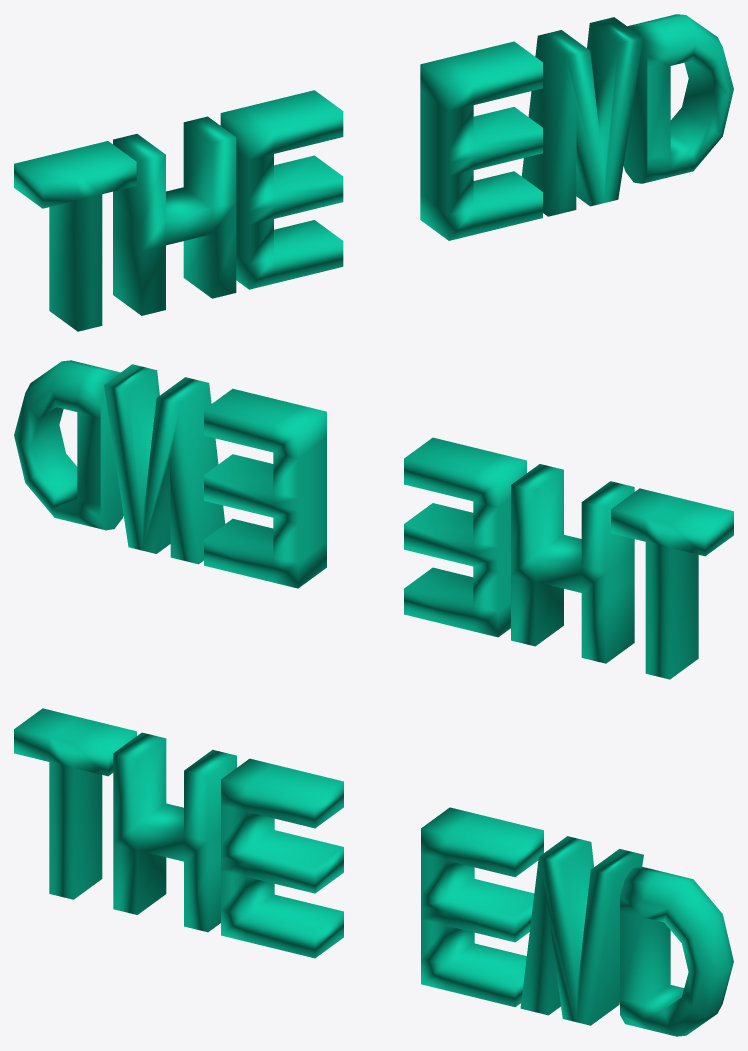
File: The_End.fbx
3 renders of one model, top to bottom at view 1: azimuth 30°, elevation 25°; view 2: azimuth 150°, elevation 25°; view 3: azimuth 330°, elevation 25°, orthographic.
Parts seen in each view (by area): view 1: pCube26, pCube7, pCube3, pCube17, pTorus2, pCube8; view 2: pCube26, pCube7, pCube3, pCube17, pTorus2, pCube8; view 3: pCube3, pCube26, pCube7, pCube17, pTorus2, pCube8.
Part boxes in pixels (x1,y1,x2,y2): pCube26: [420, 41, 542, 240]; pCube7: [113, 116, 236, 315]; pCube3: [220, 90, 343, 289]; pCube17: [521, 17, 643, 216]; pTorus2: [623, 14, 733, 183]; pCube8: [14, 141, 136, 331]; pCube26: [204, 388, 326, 588]; pCube7: [511, 464, 634, 663]; pCube3: [404, 437, 526, 637]; pCube17: [104, 364, 225, 564]; pTorus2: [14, 360, 123, 530]; pCube8: [611, 488, 733, 679]; pCube3: [221, 758, 343, 958]; pCube26: [421, 807, 543, 1007]; pCube7: [113, 732, 236, 932]; pCube17: [520, 836, 643, 1025]; pTorus2: [620, 866, 733, 1036]; pCube8: [14, 708, 136, 899].
Size of the model in its own units: 14.13 by 3 by 1.
